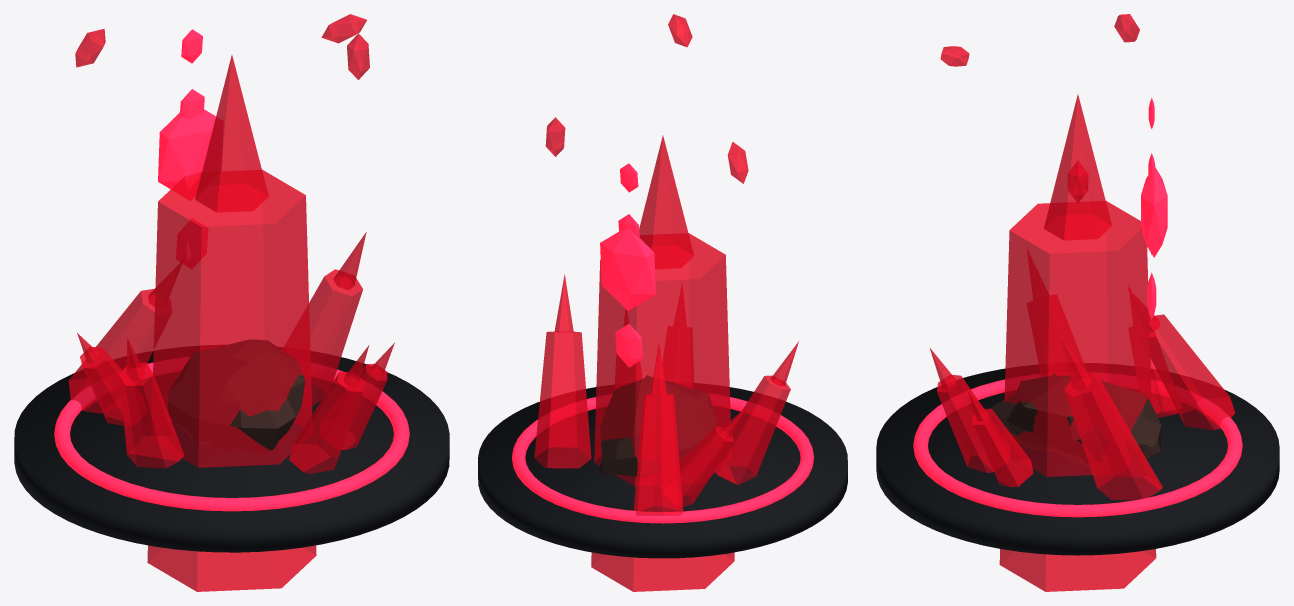
File: ruby.glb
3 views of the same model, side by side, from view 1: azimuth 30°, elevation 25°; view 2: azimuth 150°, elevation 25°; view 3: azimuth 270°, elevation 25° (orthographic). The views are drawn at different scales.
Visible parts, largest first — view 1: RubyMonolith, RockDisc, RockBase, GlowRing, RubySat_0, RubySat_1, RubySat_2, GemCore, RubySat_3, RubySat_5, RubySat_4, GlowRune_0 (+4 smaller); view 2: RockDisc, RubyMonolith, GlowRing, RubySat_0, RockBase, RubySat_3, RubySat_1, GemCore, RubySat_5, GlowRune_0, FloatShard_1, FloatShard_0 (+1 smaller); view 3: RockDisc, RubyMonolith, GlowRing, RockBase, RubySat_0, RubySat_3, RubySat_2, RubySat_4, GemCore, RubySat_5, FloatShard_0, FloatShard_1.
Part boxes in pixels (<box>): RubyMonolith: <box>147,55,316,591</box>; RockDisc: <box>14,345,449,552</box>; RockBase: <box>168,339,305,455</box>; GlowRing: <box>54,357,409,511</box>; RubySat_0: <box>309,232,366,406</box>; RubySat_1: <box>119,338,183,468</box>; RubySat_2: <box>289,345,369,473</box>; GemCore: <box>158,109,222,200</box>; RubySat_3: <box>68,259,183,413</box>; RubySat_5: <box>77,333,124,425</box>; RubySat_4: <box>341,342,394,449</box>; GlowRune_0: <box>176,218,207,268</box>; RockDisc: <box>478,383,847,558</box>; RubyMonolith: <box>591,135,734,591</box>; GlowRing: <box>512,394,813,523</box>; RubySat_0: <box>534,274,591,468</box>; RockBase: <box>599,375,716,477</box>; RubySat_3: <box>633,344,683,515</box>; RubySat_1: <box>714,341,798,484</box>; GemCore: <box>600,228,655,310</box>; RubySat_5: <box>661,406,747,506</box>; GlowRune_0: <box>615,324,642,367</box>; FloatShard_1: <box>727,142,748,183</box>; FloatShard_0: <box>545,117,565,156</box>; RockDisc: <box>876,363,1279,555</box>; RubyMonolith: <box>999,94,1156,591</box>; GlowRing: <box>913,373,1242,517</box>; RockBase: <box>991,373,1161,466</box>; RubySat_0: <box>1060,336,1162,500</box>; RubySat_3: <box>1127,287,1235,430</box>; RubySat_2: <box>930,348,993,472</box>; RubySat_4: <box>967,390,1033,486</box>; GemCore: <box>1141,167,1167,257</box>; RubySat_5: <box>1150,358,1182,417</box>; FloatShard_0: <box>1067,160,1088,203</box>; FloatShard_1: <box>1114,14,1139,42</box>.
Size of the model in its own units: 1.64 by 2.42 by 1.64.
